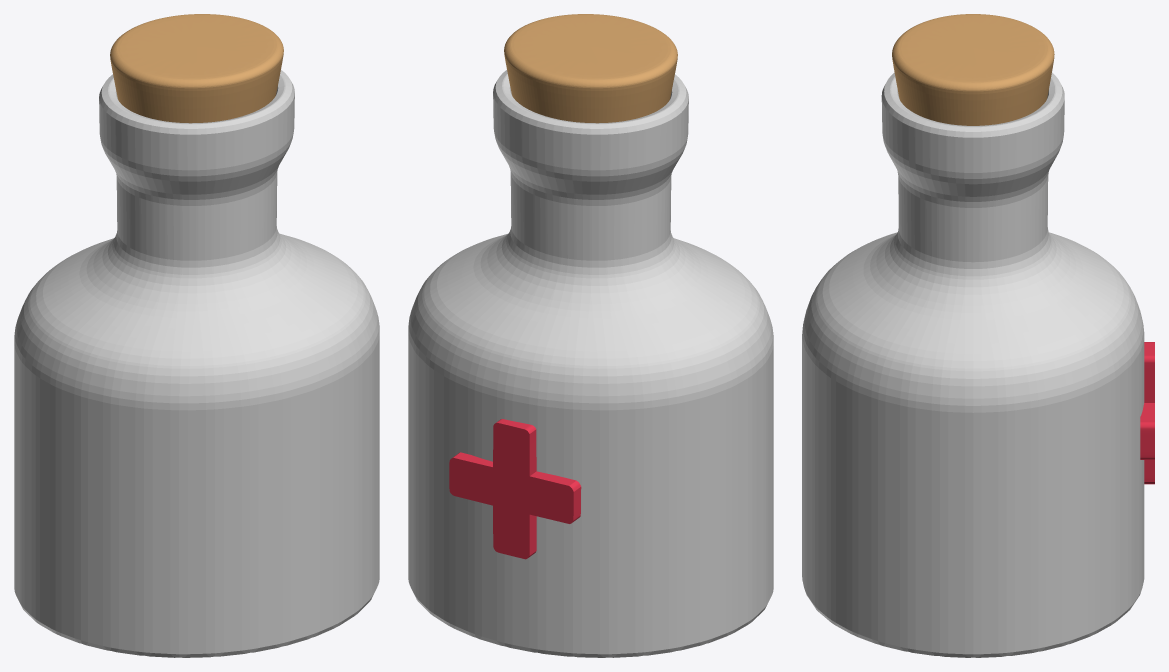
Rendered from Health Bottle.fbx.
3 views of the same model, side by side, from view 1: azimuth 30°, elevation 25°; view 2: azimuth 150°, elevation 25°; view 3: azimuth 270°, elevation 25° (orthographic).
Parts seen in each view (by area): view 1: Bottle, Corck; view 2: Bottle, Corck, Wrong.001; view 3: Bottle, Corck, Wrong.001.
Boxes of the visible parts, left/top/right/bottom form: Bottle: left=14, top=70, right=379, bottom=657; Corck: left=110, top=14, right=283, bottom=123; Bottle: left=408, top=70, right=773, bottom=657; Corck: left=504, top=14, right=677, bottom=123; Wrong.001: left=449, top=419, right=581, bottom=559; Bottle: left=802, top=72, right=1144, bottom=657; Corck: left=892, top=14, right=1054, bottom=125; Wrong.001: left=1140, top=342, right=1154, bottom=484.
Bounding box in the file's own units: 219 × 350 × 209.
